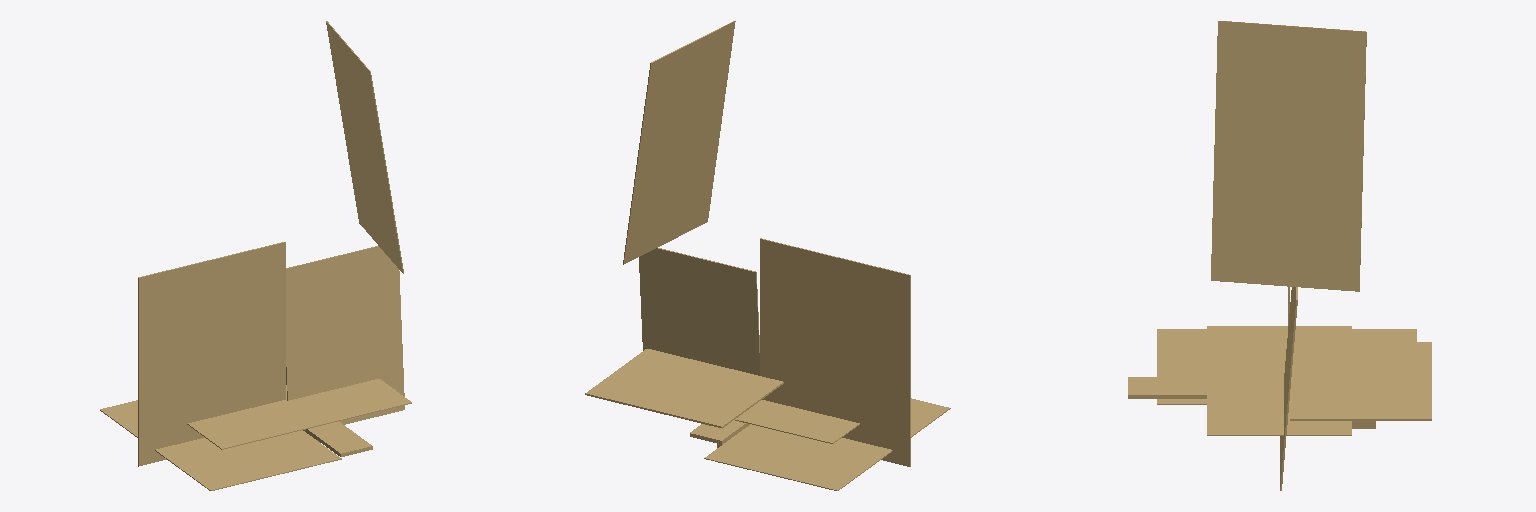
URDF robot description (evolved_design):
<?xml version="1.0" ?>
<robot name="evolved_design">
  <link name="base_link">
    <inertial>
      <mass value="0.001"/>
      <origin xyz="0 0 0" rpy="0 0 0"/>
      <inertia ixx="0.000001" ixy="0" ixz="0" iyy="0.000001" iyz="0" izz="0.000001"/>
    </inertial>
  </link>
  <link name="link_comp_0">
    <inertial>
      <mass value="0.601137"/>
      <origin xyz="0 0 0" rpy="0 0 0"/>
      <inertia ixx="0.009528798" ixy="0" ixz="0" iyy="0.000623806" iyz="0" izz="0.008941351"/>
    </inertial>
    <visual>
      <origin xyz="0 0 0" rpy="0 0 0"/>
      <geometry>
        <box size="0.019050 0.422050 0.109953"/>
      </geometry>
      <material name="link_comp_0_material">
        <color rgba="0.8 0.7 0.5 1"/>
      </material>
    </visual>
    <collision>
      <origin xyz="0 0 0" rpy="0 0 0"/>
      <geometry>
        <box size="0.019050 0.422050 0.109953"/>
      </geometry>
    </collision>
  </link>
  <joint name="base_link_to_link_comp_0" type="fixed">
    <parent link="base_link"/>
    <child link="link_comp_0"/>
    <origin xyz="0.009525 0.211025 0.054976" rpy="0.000000 0.000000 0.000000"/>
  </joint>
  <link name="link_comp_1">
    <inertial>
      <mass value="0.719914"/>
      <origin xyz="0 0 0" rpy="0 0 0"/>
      <inertia ixx="0.029328554" ixy="0" ixz="0" iyy="0.013645577" iyz="0" izz="0.042972921"/>
    </inertial>
    <visual>
      <origin xyz="0 0 0" rpy="0 0 0"/>
      <geometry>
        <box size="0.476910 0.699184 0.003175"/>
      </geometry>
      <material name="link_comp_1_material">
        <color rgba="0.8 0.7 0.5 1"/>
      </material>
    </visual>
    <collision>
      <origin xyz="0 0 0" rpy="0 0 0"/>
      <geometry>
        <box size="0.476910 0.699184 0.003175"/>
      </geometry>
    </collision>
  </link>
  <joint name="base_link_to_link_comp_1" type="fixed">
    <parent link="base_link"/>
    <child link="link_comp_1"/>
    <origin xyz="-0.238955 0.183647 0.062099" rpy="0.000000 0.000000 0.000000"/>
  </joint>
  <link name="link_comp_2">
    <inertial>
      <mass value="0.752391"/>
      <origin xyz="0 0 0" rpy="0 0 0"/>
      <inertia ixx="0.035443700" ixy="0" ixz="0" iyy="0.000852228" iyz="0" izz="0.036275702"/>
    </inertial>
    <visual>
      <origin xyz="0 0 0" rpy="0 0 0"/>
      <geometry>
        <box size="0.115892 0.751755 0.012700"/>
      </geometry>
      <material name="link_comp_2_material">
        <color rgba="0.8 0.7 0.5 1"/>
      </material>
    </visual>
    <collision>
      <origin xyz="0 0 0" rpy="0 0 0"/>
      <geometry>
        <box size="0.115892 0.751755 0.012700"/>
      </geometry>
    </collision>
  </link>
  <joint name="base_link_to_link_comp_2" type="fixed">
    <parent link="base_link"/>
    <child link="link_comp_2"/>
    <origin xyz="0.009355 0.131930 0.116803" rpy="0.000000 0.000000 0.000000"/>
  </joint>
  <link name="link_comp_3">
    <inertial>
      <mass value="0.775319"/>
      <origin xyz="0 0 0" rpy="0 0 0"/>
      <inertia ixx="0.020982424" ixy="0" ixz="0" iyy="0.032445728" iyz="0" izz="0.011466219"/>
    </inertial>
    <visual>
      <origin xyz="0 0 0" rpy="0 0 0"/>
      <geometry>
        <box size="0.421243 0.004750 0.569853"/>
      </geometry>
      <material name="link_comp_3_material">
        <color rgba="0.8 0.7 0.5 1"/>
      </material>
    </visual>
    <collision>
      <origin xyz="0 0 0" rpy="0 0 0"/>
      <geometry>
        <box size="0.421243 0.004750 0.569853"/>
      </geometry>
    </collision>
  </link>
  <joint name="base_link_to_link_comp_3" type="fixed">
    <parent link="base_link"/>
    <child link="link_comp_3"/>
    <origin xyz="0.210622 0.188619 0.284927" rpy="-0.076296 0.000000 0.000000"/>
  </joint>
  <link name="link_comp_4">
    <inertial>
      <mass value="1.135613"/>
      <origin xyz="0 0 0" rpy="0 0 0"/>
      <inertia ixx="0.040640646" ixy="0" ixz="0" iyy="0.067881395" iyz="0" izz="0.027245019"/>
    </inertial>
    <visual>
      <origin xyz="0 0 0" rpy="0 0 0"/>
      <geometry>
        <box size="0.536540 0.004750 0.655306"/>
      </geometry>
      <material name="link_comp_4_material">
        <color rgba="0.8 0.7 0.5 1"/>
      </material>
    </visual>
    <collision>
      <origin xyz="0 0 0" rpy="0 0 0"/>
      <geometry>
        <box size="0.536540 0.004750 0.655306"/>
      </geometry>
    </collision>
  </link>
  <joint name="base_link_to_link_comp_4" type="fixed">
    <parent link="base_link"/>
    <child link="link_comp_4"/>
    <origin xyz="-0.268770 0.187813 0.347075" rpy="0.000000 0.000000 0.000000"/>
  </joint>
  <link name="link_comp_5">
    <inertial>
      <mass value="0.805765"/>
      <origin xyz="0 0 0" rpy="0 0 0"/>
      <inertia ixx="0.009749813" ixy="0" ixz="0" iyy="0.016110251" iyz="0" izz="0.025854649"/>
    </inertial>
    <visual>
      <origin xyz="0 0 0" rpy="0 0 0"/>
      <geometry>
        <box size="0.489780 0.380999 0.006350"/>
      </geometry>
      <material name="link_comp_5_material">
        <color rgba="0.8 0.7 0.5 1"/>
      </material>
    </visual>
    <collision>
      <origin xyz="0 0 0" rpy="0 0 0"/>
      <geometry>
        <box size="0.489780 0.380999 0.006350"/>
      </geometry>
    </collision>
  </link>
  <joint name="base_link_to_link_comp_5" type="fixed">
    <parent link="base_link"/>
    <child link="link_comp_5"/>
    <origin xyz="0.157400 0.381994 0.203558" rpy="0.000000 0.000000 0.000000"/>
  </joint>
  <link name="link_comp_6">
    <inertial>
      <mass value="0.641104"/>
      <origin xyz="0 0 0" rpy="0 0 0"/>
      <inertia ixx="0.037302975" ixy="0" ixz="0" iyy="0.028460161" iyz="0" izz="0.008843891"/>
    </inertial>
    <visual>
      <origin xyz="0 0 0" rpy="0 0 0"/>
      <geometry>
        <box size="0.003175 0.406851 0.729862"/>
      </geometry>
      <material name="link_comp_6_material">
        <color rgba="0.8 0.7 0.5 1"/>
      </material>
    </visual>
    <collision>
      <origin xyz="0 0 0" rpy="0 0 0"/>
      <geometry>
        <box size="0.003175 0.406851 0.729862"/>
      </geometry>
    </collision>
  </link>
  <joint name="base_link_to_link_comp_6" type="fixed">
    <parent link="base_link"/>
    <child link="link_comp_6"/>
    <origin xyz="0.288785 0.188091 0.935285" rpy="0.000000 -0.153479 -0.174028"/>
  </joint>
  <link name="link_comp_7">
    <inertial>
      <mass value="0.630815"/>
      <origin xyz="0 0 0" rpy="0 0 0"/>
      <inertia ixx="0.008021506" ixy="0" ixz="0" iyy="0.025216287" iyz="0" izz="0.033236557"/>
    </inertial>
    <visual>
      <origin xyz="0 0 0" rpy="0 0 0"/>
      <geometry>
        <box size="0.692588 0.390617 0.003429"/>
      </geometry>
      <material name="link_comp_7_material">
        <color rgba="0.8 0.7 0.5 1"/>
      </material>
    </visual>
    <collision>
      <origin xyz="0 0 0" rpy="0 0 0"/>
      <geometry>
        <box size="0.692588 0.390617 0.003429"/>
      </geometry>
    </collision>
  </link>
  <joint name="base_link_to_link_comp_7" type="fixed">
    <parent link="base_link"/>
    <child link="link_comp_7"/>
    <origin xyz="-0.012932 0.162966 0.125367" rpy="0.000000 0.000000 0.000000"/>
  </joint>
</robot>

--- What the picture shows (computed from the rendered views, not written in the file) ---
Views: 3 orthographic renders of the robot side by side, from view 1: azimuth 30°, elevation 25°; view 2: azimuth 150°, elevation 25°; view 3: azimuth 270°, elevation 25°.
Model evolved_design with 9 links and 8 joints (8 fixed), rooted at base_link, posed all joints at 0.
Visible links, largest first — view 1: link_comp_4, link_comp_3, link_comp_6, link_comp_1, link_comp_7, link_comp_2; view 2: link_comp_4, link_comp_6, link_comp_3, link_comp_5, link_comp_1, link_comp_7, link_comp_2; view 3: link_comp_6, link_comp_5, link_comp_7, link_comp_1, link_comp_2, link_comp_3.
Link boxes in pixels (x1,y1,x2,y2): link_comp_4: (138, 242, 285, 466); link_comp_3: (286, 246, 404, 424); link_comp_6: (326, 21, 403, 273); link_comp_1: (100, 400, 341, 490); link_comp_7: (187, 379, 411, 449); link_comp_2: (304, 421, 372, 456); link_comp_4: (760, 238, 910, 466); link_comp_6: (623, 21, 735, 264); link_comp_3: (639, 248, 759, 375); link_comp_5: (585, 349, 783, 428); link_comp_1: (704, 398, 950, 490); link_comp_7: (735, 400, 859, 443); link_comp_2: (690, 420, 748, 444); link_comp_6: (1211, 21, 1366, 291); link_comp_5: (1290, 342, 1431, 420); link_comp_7: (1207, 326, 1351, 435); link_comp_1: (1157, 329, 1416, 404); link_comp_2: (1128, 377, 1206, 398); link_comp_3: (1280, 287, 1297, 490).
Size in the robot's own frame: 0.9583 by 0.8164 by 1.3 metres.
Geometry: primitives only (box / cylinder / sphere), no mesh files.